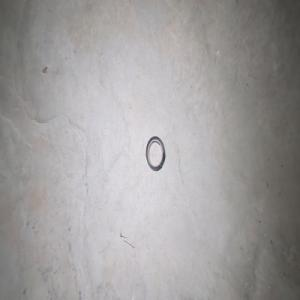Tape: (145, 136, 165, 171)
